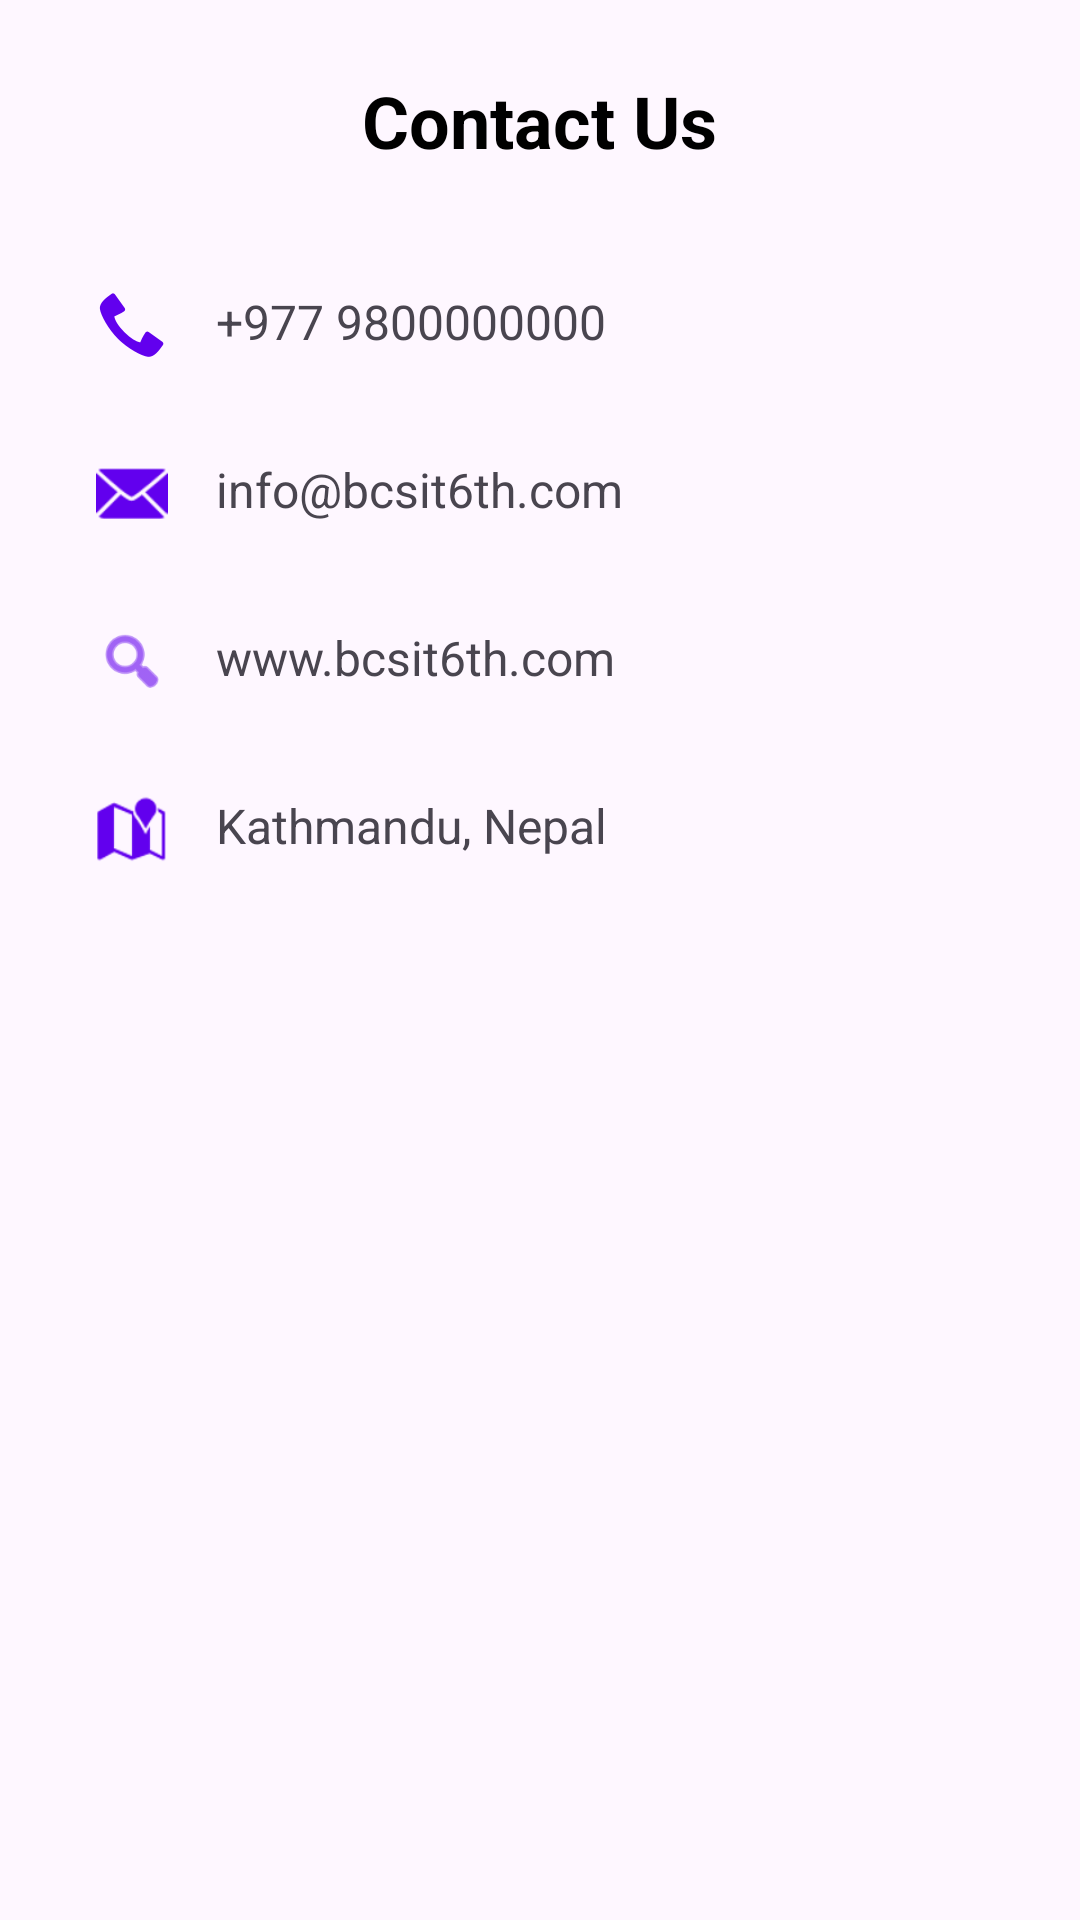

Named icons in this screenshot (1080x1920) and their bounding boxes, (x1, y1, x2, y2):
email: (96, 468, 168, 519)
map: (97, 797, 166, 861)
phone call: (100, 293, 164, 357)
search: (105, 635, 159, 688)
